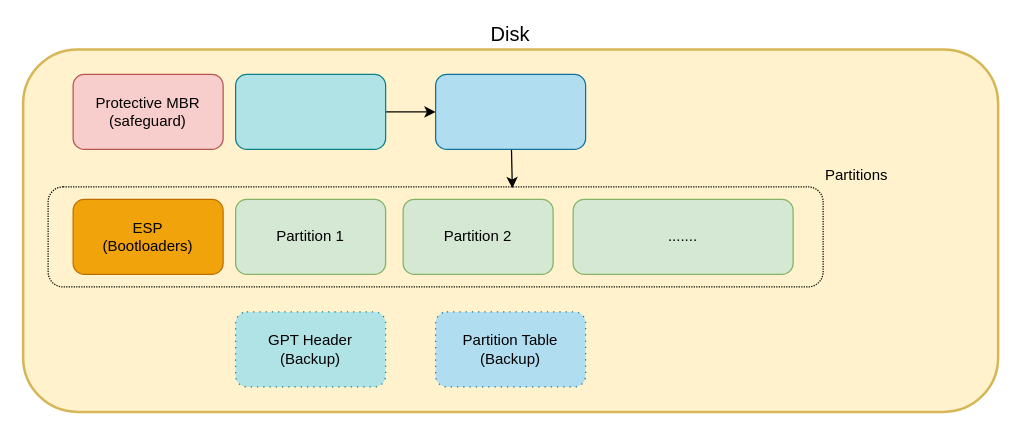
The diagram is 1020 pixels wide and 434 high, and some of its shapes have lost their labels. The shapes that lost their labels are listed below. From the top down, each one's centre as x and y in pixels, then its label:
At (x=310, y=111): "GPT Header".
At (x=510, y=111): "Partition Table".
